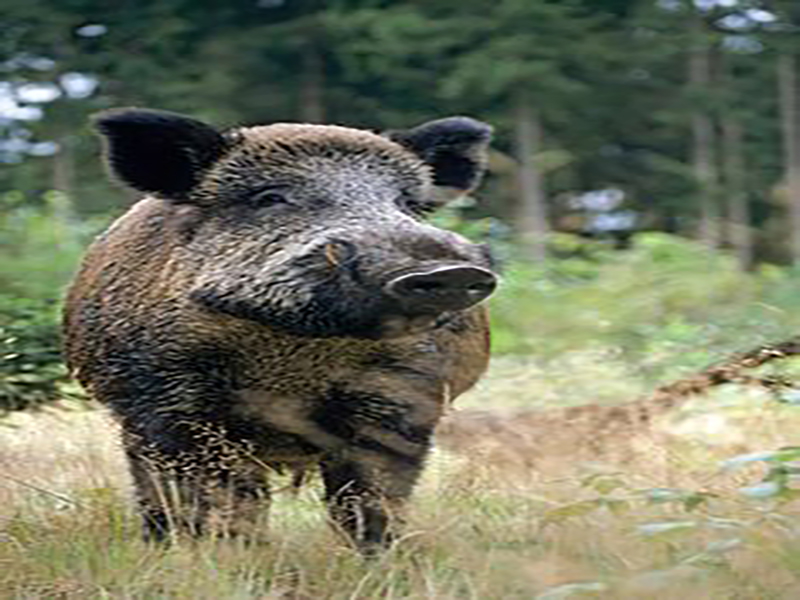cinghiale: (59, 95, 505, 553)
